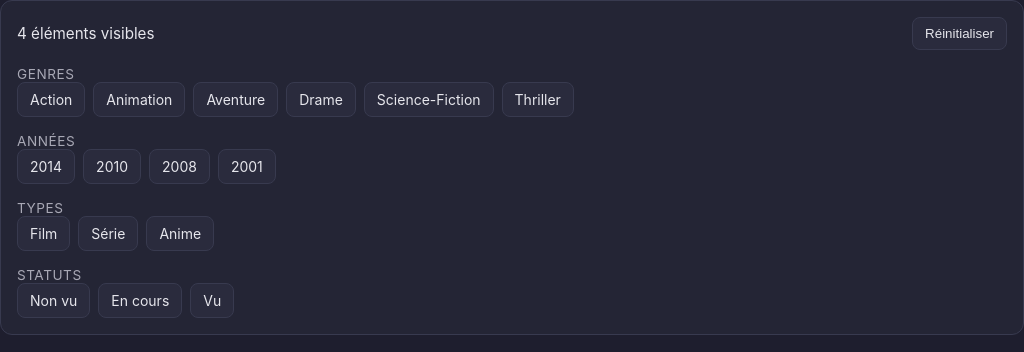
<FilterPanel> — compteur d'éléments visibles › utilise le singulier quand exactement un item est visible
// Filtre par type Film + statut "vu" ⇒ seul Inception correspond.
Click the button "Film" at (44, 234), box 17,216 -> 70,251
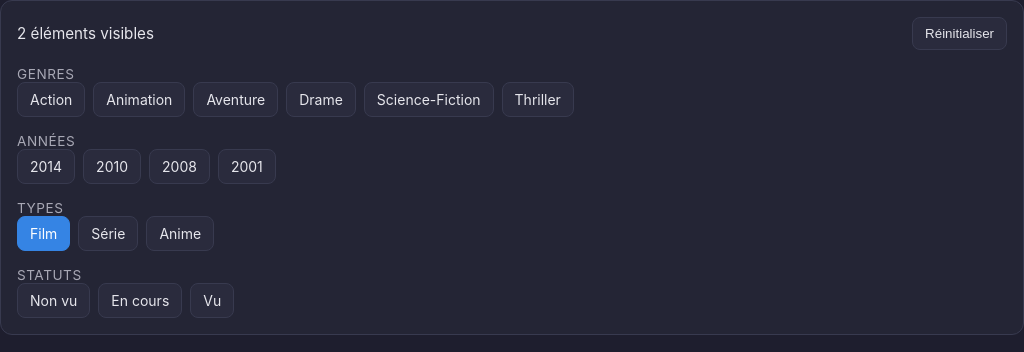
Click the button "Vu" at (212, 300), box 190,283 -> 234,318
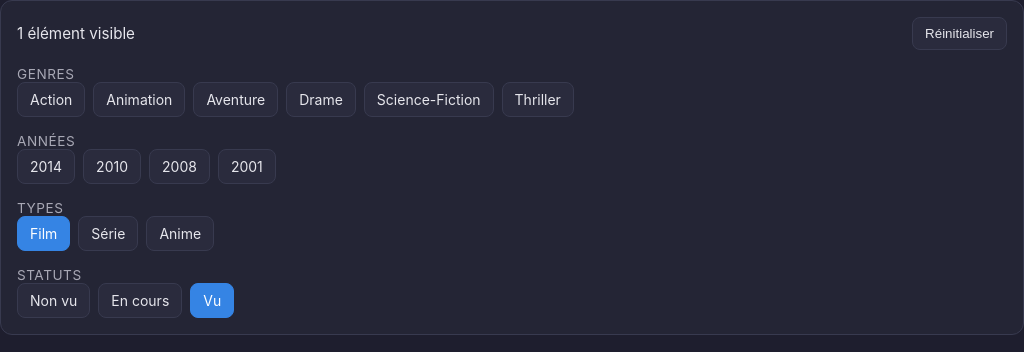
Expected: the text with test id "visible-count" reads "1 élément visible", 17,24 -> 135,43
